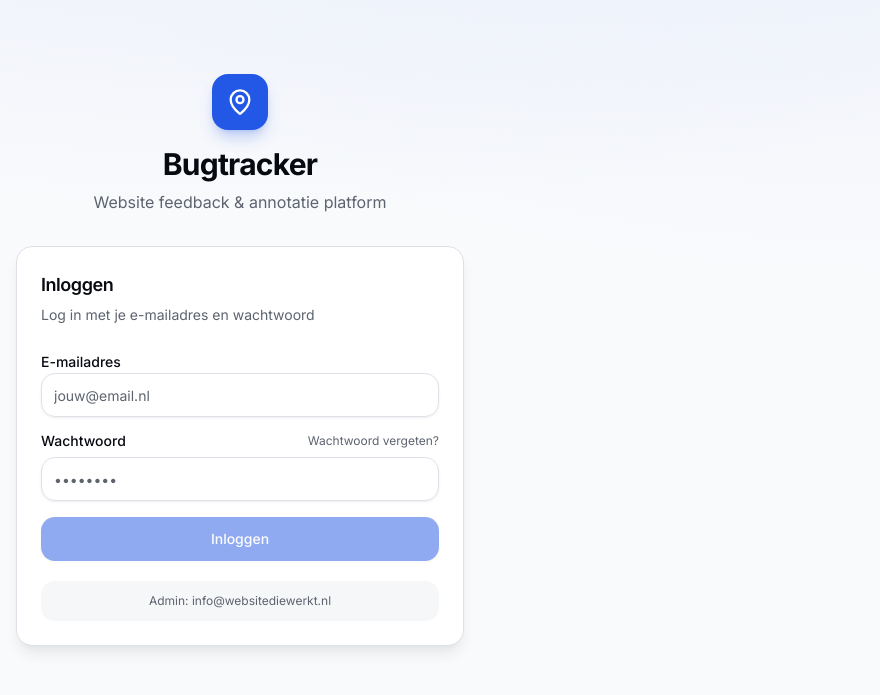
Test: LoginPage › shows error message on failed login
In the field labelled "E-mailadres": (240,395) left=41, top=373, right=439, bottom=417, type "wrong@example.com"
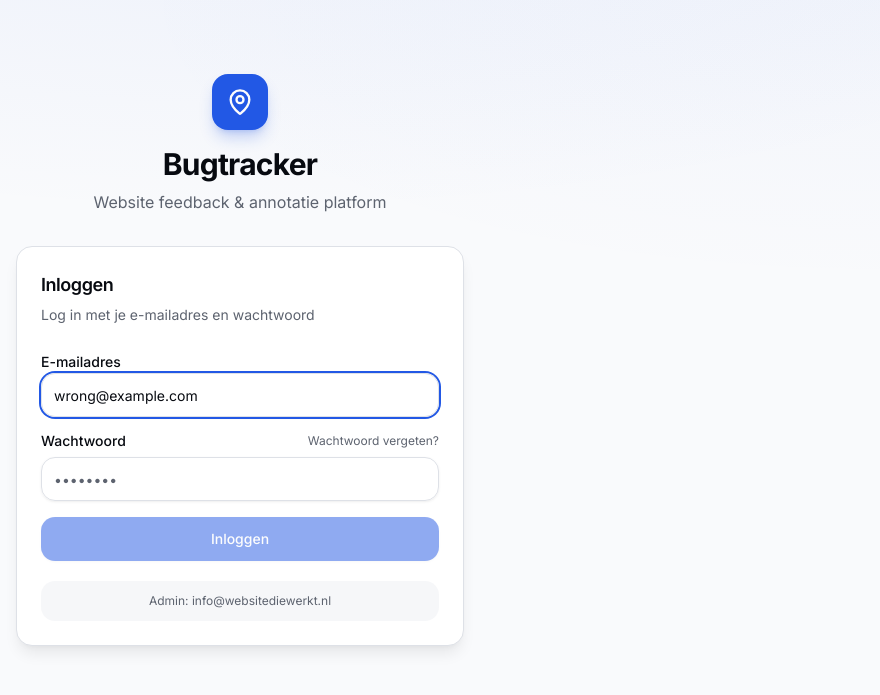
In the password field labelled "Wachtwoord": (240,479) left=41, top=457, right=439, bottom=501, type "bad"
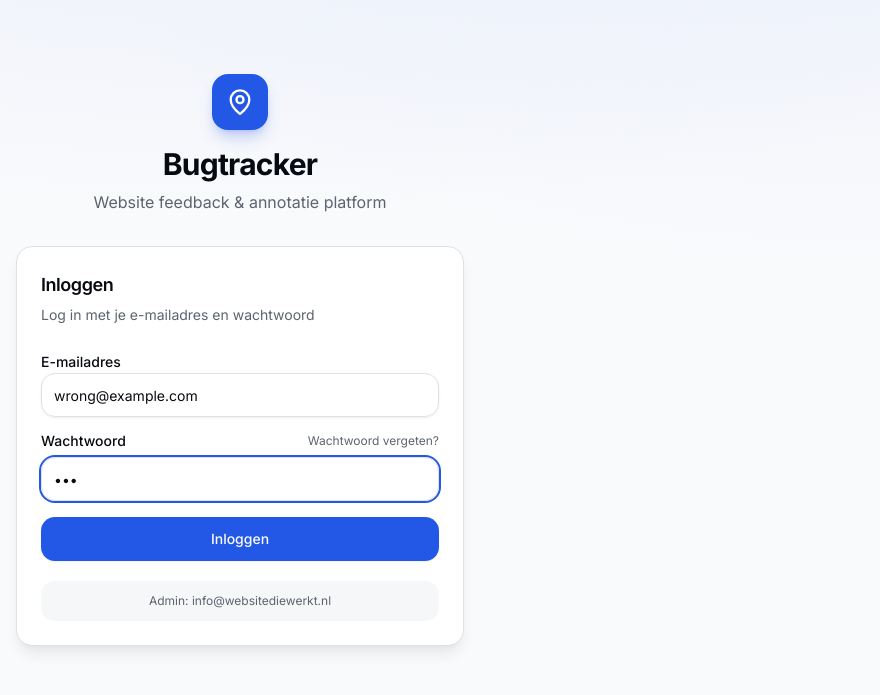
Click the button "Inloggen": (240,539) left=41, top=517, right=439, bottom=561
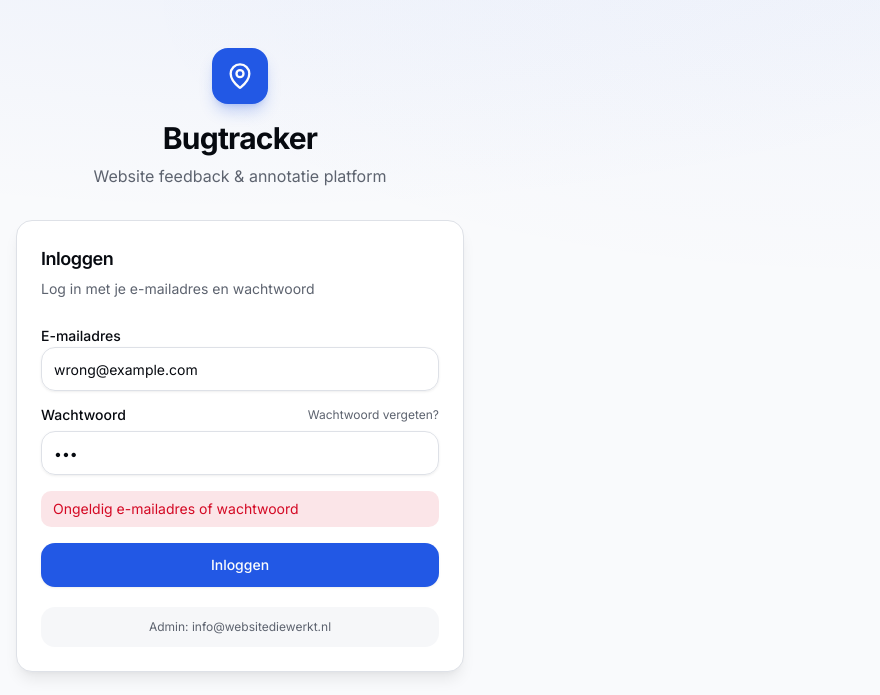
Now the text "Ongeldig e-mailadres of wachtwoord" is shown, box left=41, top=491, right=439, bottom=527
